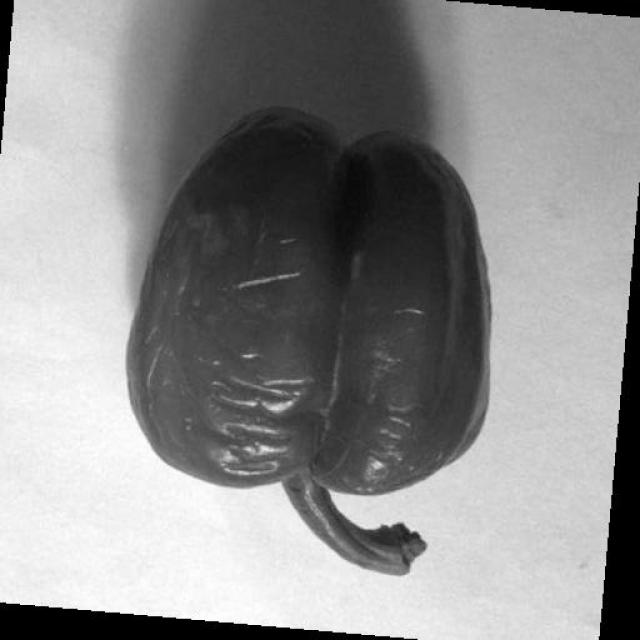Stale_Capsicum: (129, 103, 475, 565)
